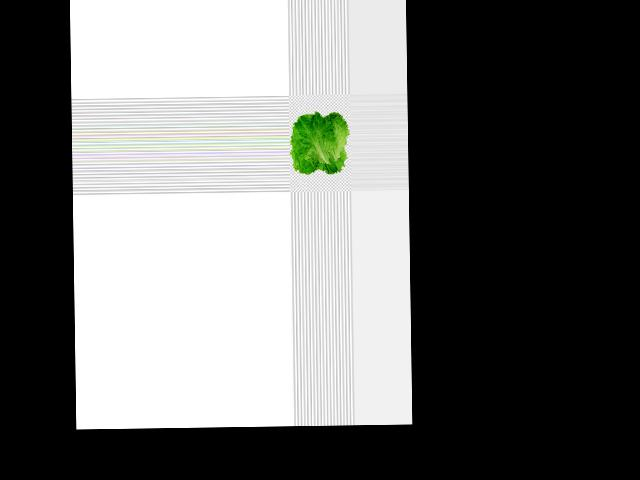lettuce: (288, 107, 351, 179)
